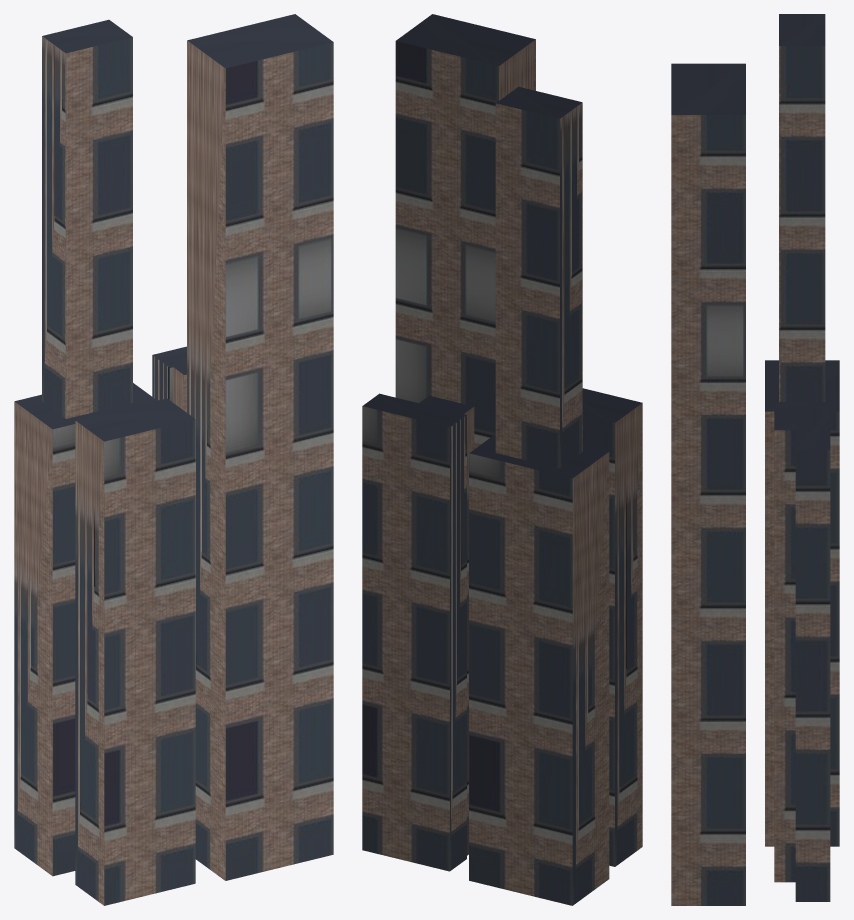
The model's file is city_block_12345_6_10.glb.
3 renders of one model, left to right at view 1: azimuth 30°, elevation 25°; view 2: azimuth 150°, elevation 25°; view 3: azimuth 270°, elevation 25°, orthographic. The views are drawn at different scales.
Parts seen in each view (by area): view 1: block_10; view 2: block_10; view 3: block_10.
Part boxes in pixels (left/top/right/bottom): block_10: left=14, top=14, right=333, bottom=905; block_10: left=362, top=14, right=642, bottom=905; block_10: left=671, top=14, right=839, bottom=905.
Size of the model in its own units: 4.2 by 14 by 2.7.
4 materials, 4 textured.
